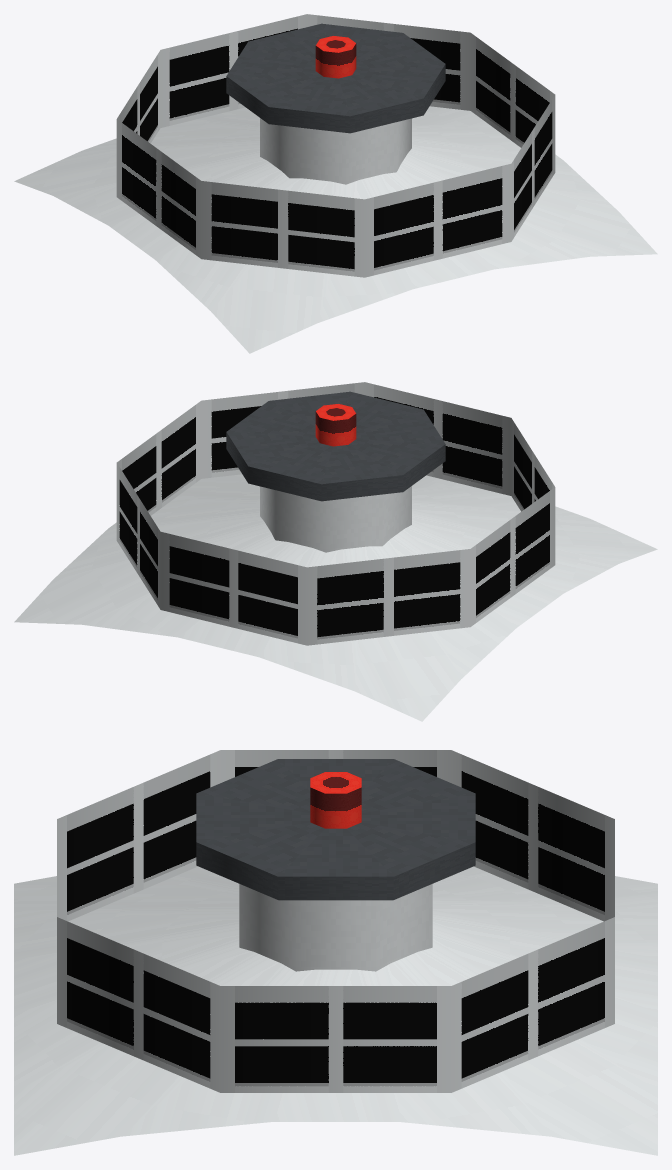
File: bowl_medium_2_2_2.obj
3 views of the same model, one above another, from view 1: azimuth 30°, elevation 25°; view 2: azimuth 150°, elevation 25°; view 3: azimuth 270°, elevation 25° (orthographic). The views are drawn at different scales.
Parts seen in each view (by area): view 1: bowl_medium_2_2_2; view 2: bowl_medium_2_2_2; view 3: bowl_medium_2_2_2.
Boxes of the visible parts, <box> form: bowl_medium_2_2_2: <box>14,14,657,353</box>; bowl_medium_2_2_2: <box>14,382,657,721</box>; bowl_medium_2_2_2: <box>14,750,657,1155</box>.
Size of the model in its own units: 3 by 1.22 by 3.
